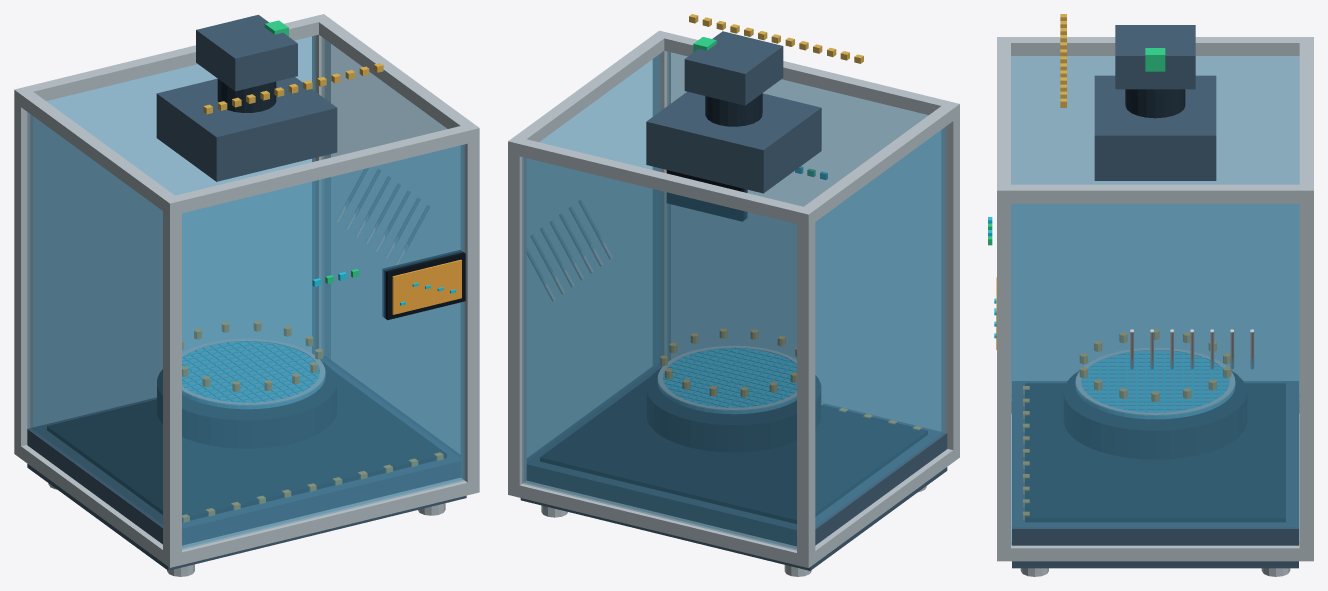
The model's file is 46_L79_DifferentialExpansionAnalyzer.fbx.
3 renders of one model, left to right at view 1: azimuth 30°, elevation 25°; view 2: azimuth 150°, elevation 25°; view 3: azimuth 270°, elevation 25°, orthographic. The views are drawn at different scales.
Parts seen in each view (by area): view 1: DifferentialExpansionAnalyzer, DifferentialExpansionAnalyzer_Part_0108, DifferentialExpansionAnalyzer_Part_0109; view 2: DifferentialExpansionAnalyzer, DifferentialExpansionAnalyzer_Part_0108, DifferentialExpansionAnalyzer_Part_0109; view 3: DifferentialExpansionAnalyzer, DifferentialExpansionAnalyzer_Part_0108, DifferentialExpansionAnalyzer_Part_0109, DifferentialExpansionAnalyzer_Part_0112.
Part boxes in pixels (box(x1,y1,x2,y2)): DifferentialExpansionAnalyzer: box(14, 14, 479, 576); DifferentialExpansionAnalyzer_Part_0108: box(196, 14, 297, 91); DifferentialExpansionAnalyzer_Part_0109: box(217, 79, 276, 112); DifferentialExpansionAnalyzer: box(508, 14, 959, 576); DifferentialExpansionAnalyzer_Part_0108: box(684, 31, 783, 105); DifferentialExpansionAnalyzer_Part_0109: box(705, 93, 762, 126); DifferentialExpansionAnalyzer: box(988, 14, 1313, 576); DifferentialExpansionAnalyzer_Part_0108: box(1115, 25, 1195, 89); DifferentialExpansionAnalyzer_Part_0109: box(1125, 89, 1185, 118); DifferentialExpansionAnalyzer_Part_0112: box(1145, 48, 1165, 71).
Bounding box in the file's own units: 230 × 312 × 195.
